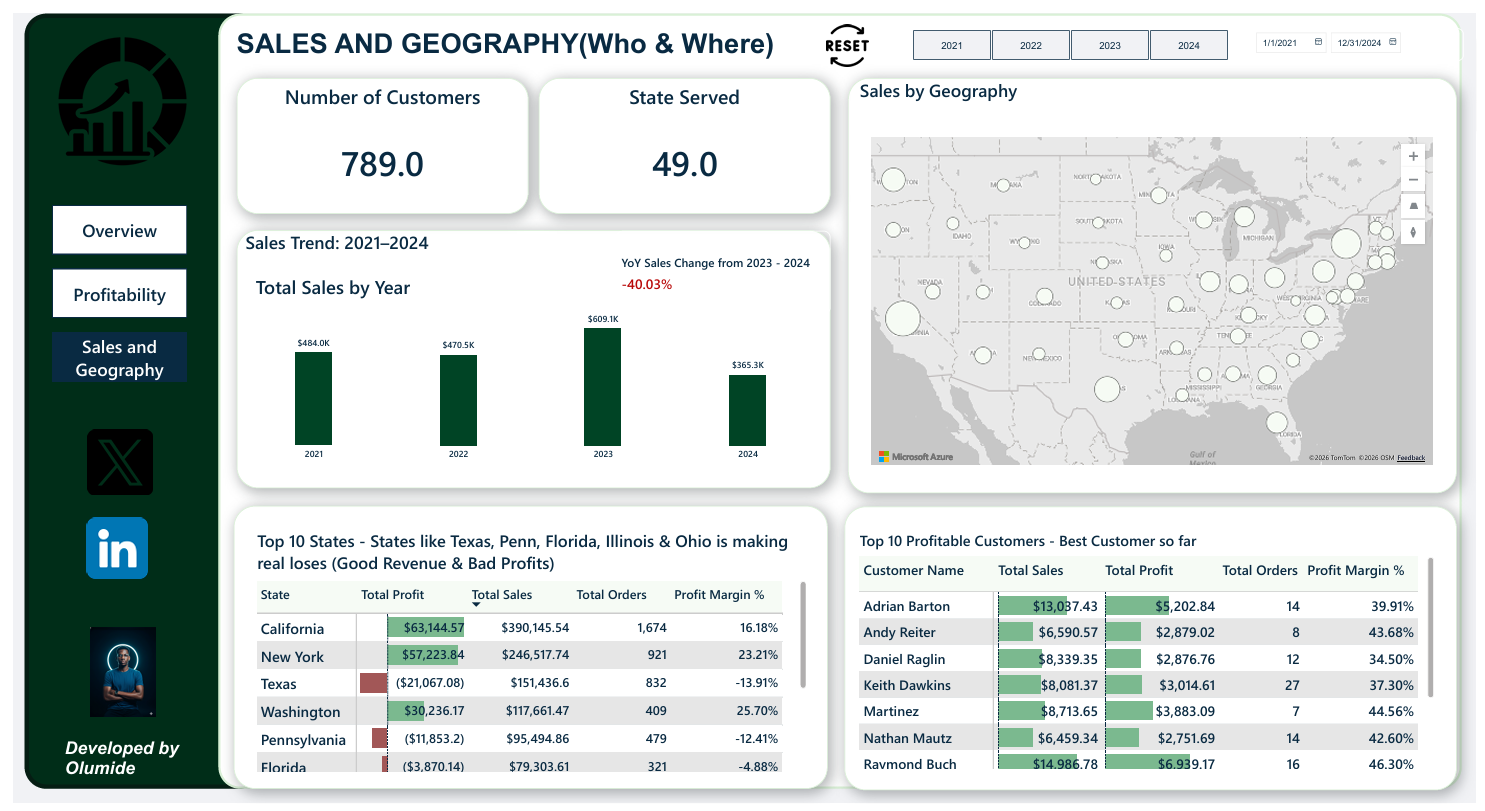

What the dashboard file says about the page in this screenshot:
{"tool":"powerbi","page":{"name":"Sales and Geography","canvas":[2000,1080],"ordinal":2},"visuals":[{"type":"shape","box":[718.2,88.3,398.4,186.1],"z":0},{"type":"shape","box":[15.4,0,322.6,1060.5],"z":1000},{"type":"shape","box":[279.7,0,1700.6,1060.5],"z":2000},{"type":"shape","box":[301.4,673,811.7,387],"z":3000},{"type":"shape","box":[305.4,295.9,811.2,353.1],"z":4000},{"type":"shape","box":[305.4,88.3,398.4,186.1],"z":5000},{"type":"slicer","fields":{"Values":["Calendar_Table.Date"]},"box":[1690,20,292.5,45],"z":6000},{"type":"shape","box":[1141.1,87.5,832.3,568],"z":7000},{"type":"slicer","fields":{"Values":["Calendar_Table.Year"]},"box":[1207.5,20,472.5,45],"z":8000},{"type":"textbox","box":[305,20,735,70],"z":9000},{"type":"image","box":[70.4,674.4,142.4,113.3],"z":10000},{"type":"textbox","box":[70.4,990.1,187,61.8],"z":11000},{"type":"shape","box":[718.2,88.3,398.4,186.1],"z":12000},{"type":"image","box":[78.9,554.3,133.8,120.1],"z":13000},{"type":"shape","box":[1136,674.4,837.4,387.8],"z":14000},{"type":"card","title":"State Served","fields":{"Values":["Data.Number of State"]},"box":[737.2,95.4,360.3,169.4],"z":15000},{"type":"card","title":"Number of Customers","fields":{"Values":["Data.5_Number of Customer"]},"box":[314.9,95.4,379.4,169.4],"z":16000},{"type":"pivotTable","title":"Top 10 States - States like Texas, Penn, Florida, Illinois & Ohio is making real loses (Good Revenue & Bad Profits)","fields":{"Values":["Data.3_Total Profit","Data.1_Total Sales","Data.4_Total Orders","Data.6_Profit Margin %"],"Rows":["Data.State"]},"box":[316.8,689.7,782,360.9],"z":17000},{"type":"textbox","box":[1156.9,88.2,769.9,64.2],"z":18000},{"type":"azureMap","title":"Total Sales by State","fields":{"Category":["Data.State"],"Size":["Data.1_Total Sales"]},"box":[1156.6,152.7,797.9,478.8],"z":19000},{"type":"columnChart","title":"Total Sales by Year","fields":{"Category":["Calendar_Table.Year"],"Y":["Data.1_Total Sales"]},"box":[314.9,341.2,782.6,291.1],"z":20000},{"type":"textbox","box":[317.3,295.9,780.2,45.3],"z":21000},{"type":"pivotTable","title":"Top 10 Profitable Customers - Best Customer so far","fields":{"Rows":["Data.Customer Name"],"Values":["Data.1_Total Sales","Data.3_Total Profit","Data.4_Total Orders","Data.6_Profit Margin %"]},"box":[1140.9,689.7,816.1,356.9],"z":22000},{"type":"image","box":[1080,0,120,87.5],"z":23000},{"type":"pageNavigator","box":[37.8,247.1,214.5,271.1],"z":24000},{"type":"image","box":[41.2,5.1,216.2,229.9],"z":25000},{"type":"image","box":[84.1,825.4,130.4,152.7],"z":26000},{"type":"cardVisual","fields":{"Data":["Data.YoY Sales Change %"]},"box":[824.1,296.7,292.7,114.3],"z":27000}]}

Visuals, with their boxes in screenshot pixels (x1, y1, x2, y2), scaled from the page's 2000x1080 canvas onto the 1485x811 screenshot:
shape: box=[533, 66, 829, 206]
shape: box=[11, 0, 251, 796]
shape: box=[208, 0, 1470, 796]
shape: box=[224, 505, 826, 796]
shape: box=[227, 222, 829, 487]
shape: box=[227, 66, 523, 206]
slicer - Calendar_Table.Date: box=[1255, 15, 1472, 49]
shape: box=[847, 66, 1465, 492]
slicer - Calendar_Table.Year: box=[897, 15, 1247, 49]
textbox: box=[226, 15, 772, 68]
image: box=[52, 506, 158, 592]
textbox: box=[52, 743, 191, 790]
shape: box=[533, 66, 829, 206]
image: box=[59, 416, 158, 506]
shape: box=[843, 506, 1465, 798]
"State Served" card: box=[547, 72, 815, 199]
"Number of Customers" card: box=[234, 72, 516, 199]
"Top 10 States - States like Texas, Penn, Florida, Illinois & Ohio is making real loses (Good Revenue & Bad Profits)" pivotTable: box=[235, 518, 816, 789]
textbox: box=[859, 66, 1431, 114]
"Total Sales by State" azureMap: box=[859, 115, 1451, 474]
"Total Sales by Year" columnChart: box=[234, 256, 815, 475]
textbox: box=[236, 222, 815, 256]
"Top 10 Profitable Customers - Best Customer so far" pivotTable: box=[847, 518, 1453, 786]
image: box=[802, 0, 891, 66]
pageNavigator: box=[28, 186, 187, 389]
image: box=[31, 4, 191, 176]
image: box=[62, 620, 159, 734]
cardVisual - Data.YoY Sales Change %: box=[612, 223, 829, 309]
